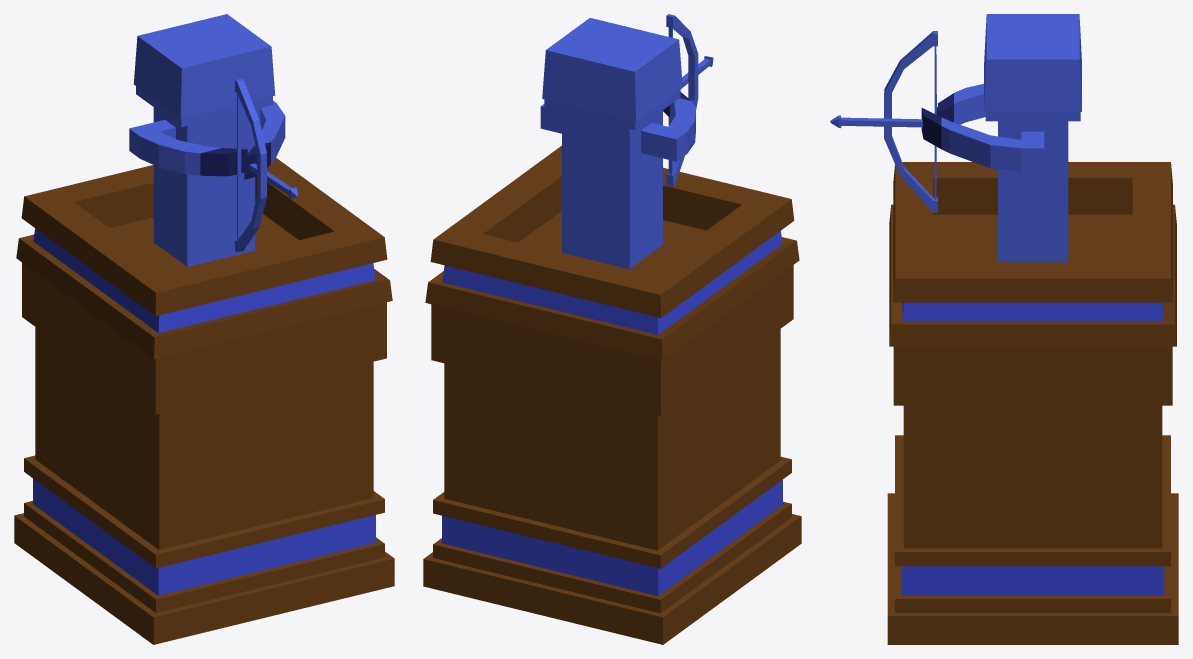
File: ArcherTowerUpgrade.fbx
3 views of the same model, side by side, from view 1: azimuth 30°, elevation 25°; view 2: azimuth 150°, elevation 25°; view 3: azimuth 270°, elevation 25° (orthographic). The views are drawn at different scales.
Visible parts, largest first — view 1: ArcherTowerLevel2, ArcherLevel2; view 2: ArcherTowerLevel2, ArcherLevel2; view 3: ArcherTowerLevel2, ArcherLevel2.
Part boxes in pixels (left/top/right/bottom): ArcherTowerLevel2: left=14, top=158, right=394, bottom=644; ArcherLevel2: left=129, top=14, right=298, bottom=266; ArcherTowerLevel2: left=423, top=145, right=801, bottom=644; ArcherLevel2: left=540, top=14, right=713, bottom=269; ArcherTowerLevel2: left=887, top=162, right=1178, bottom=644; ArcherLevel2: left=830, top=14, right=1081, bottom=262.
Size of the model in its own units: 295 by 612 by 353.
